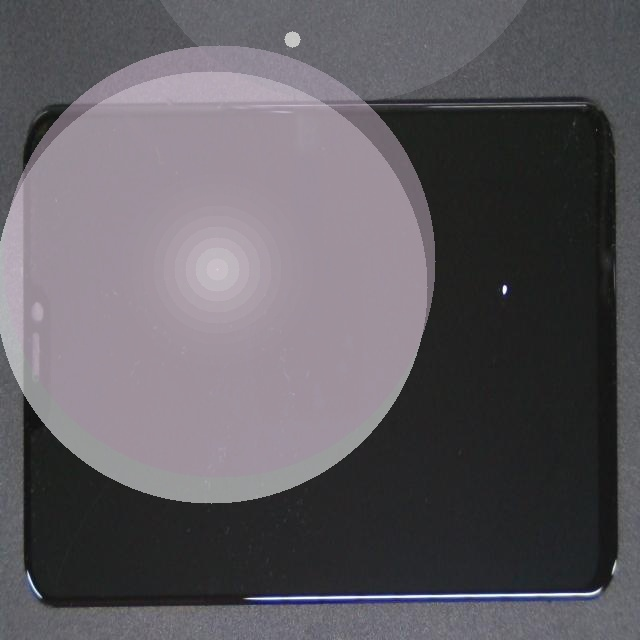stain: (214, 107, 640, 446)
